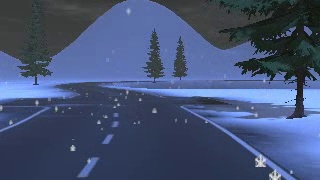Lane: (0, 82, 291, 179)
